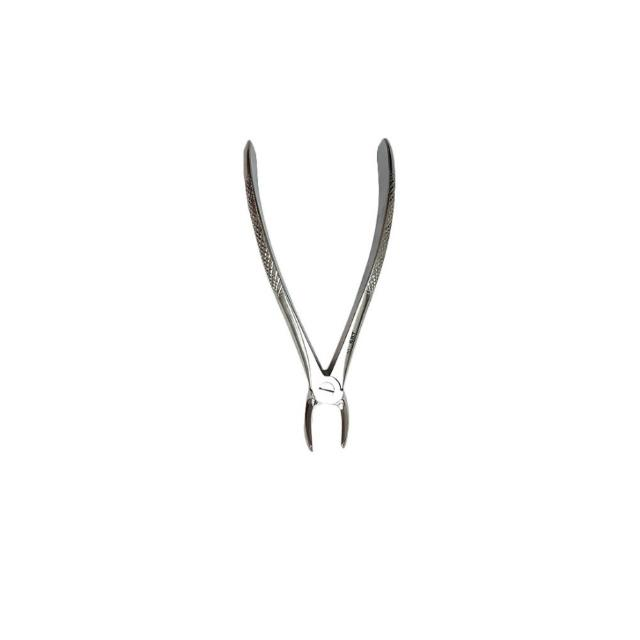forceps: (241, 142, 393, 454)
